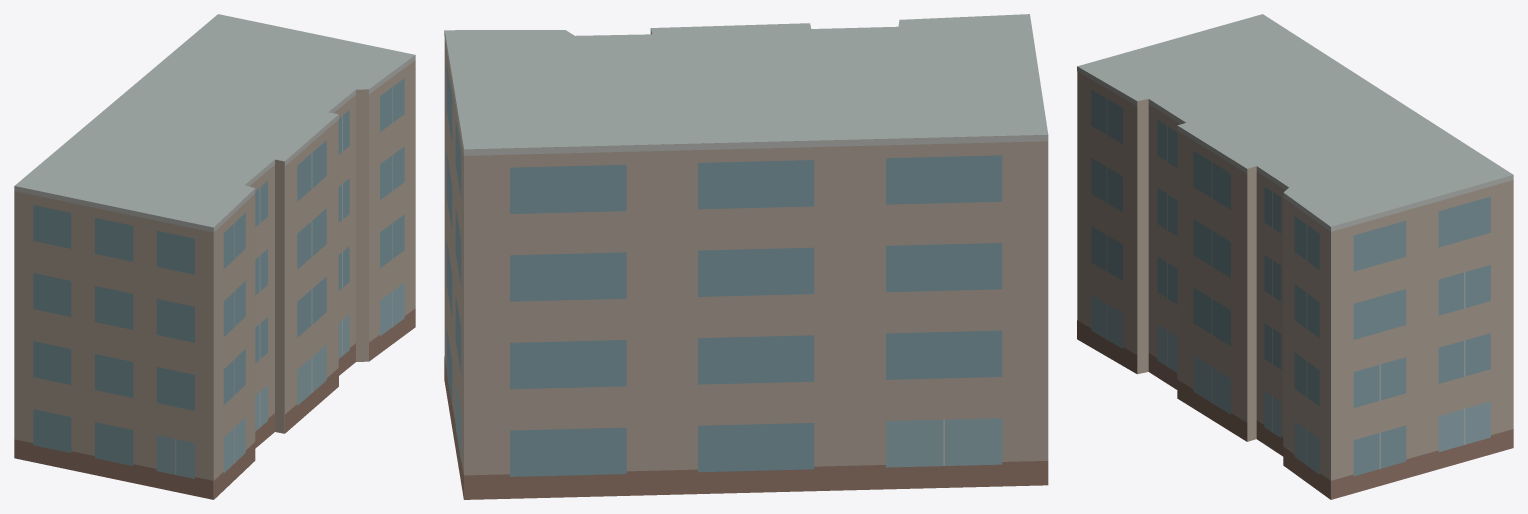
Rendered from survey-upis-32984678.glb.
3 views of the same model, side by side, from view 1: azimuth 30°, elevation 25°; view 2: azimuth 150°, elevation 25°; view 3: azimuth 270°, elevation 25° (orthographic). The views are drawn at different scales.
Parts seen in each view (by area): view 1: survey-upis-32984678.tmp; view 2: survey-upis-32984678.tmp; view 3: survey-upis-32984678.tmp.
Boxes of the visible parts, x1=… form: survey-upis-32984678.tmp: x1=14, y1=14, x2=415, y2=499; survey-upis-32984678.tmp: x1=444, y1=14, x2=1048, y2=499; survey-upis-32984678.tmp: x1=1077, y1=14, x2=1513, y2=499.
Bounding box in the file's own units: 22.08 × 13.2 × 19.14.
